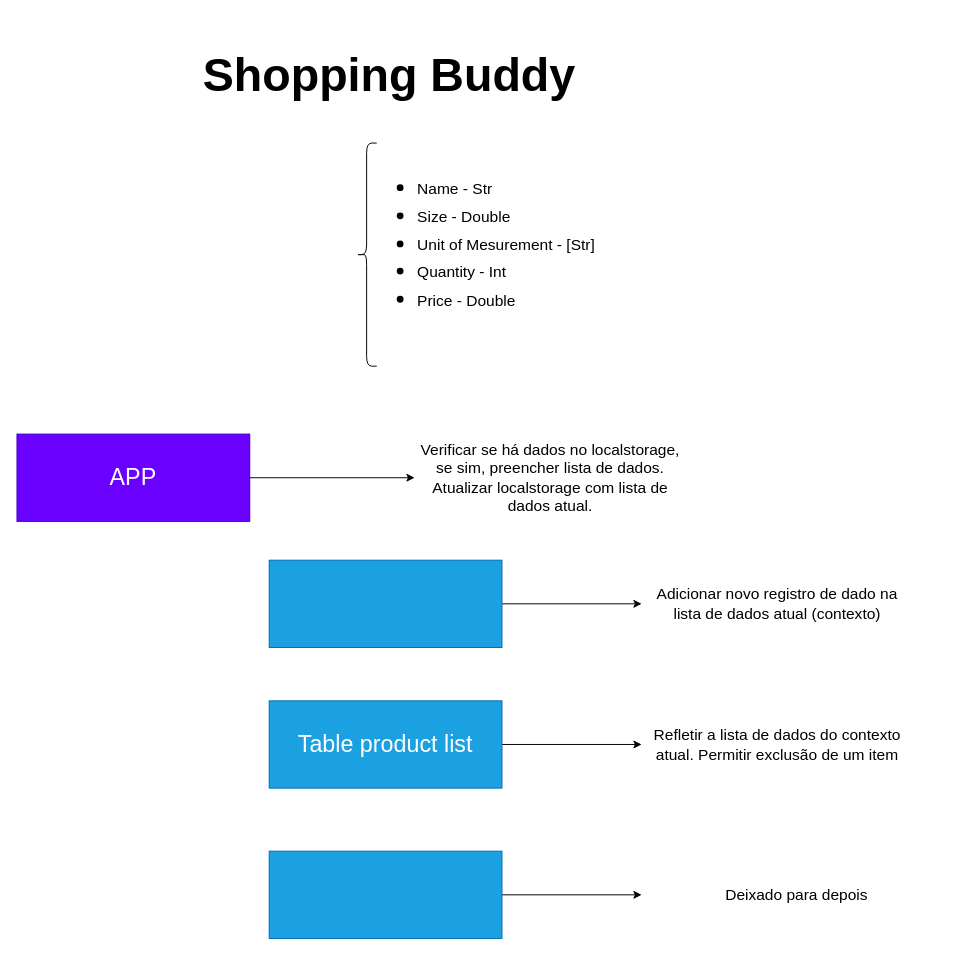
Some shapes in this 969 by 955 pixel diagram are drawn without their labels. The centre of each missing label's shape, as x and y in pixels:
"Export/Import Data" goes at [385,894].
"Form add product" goes at [385,603].
